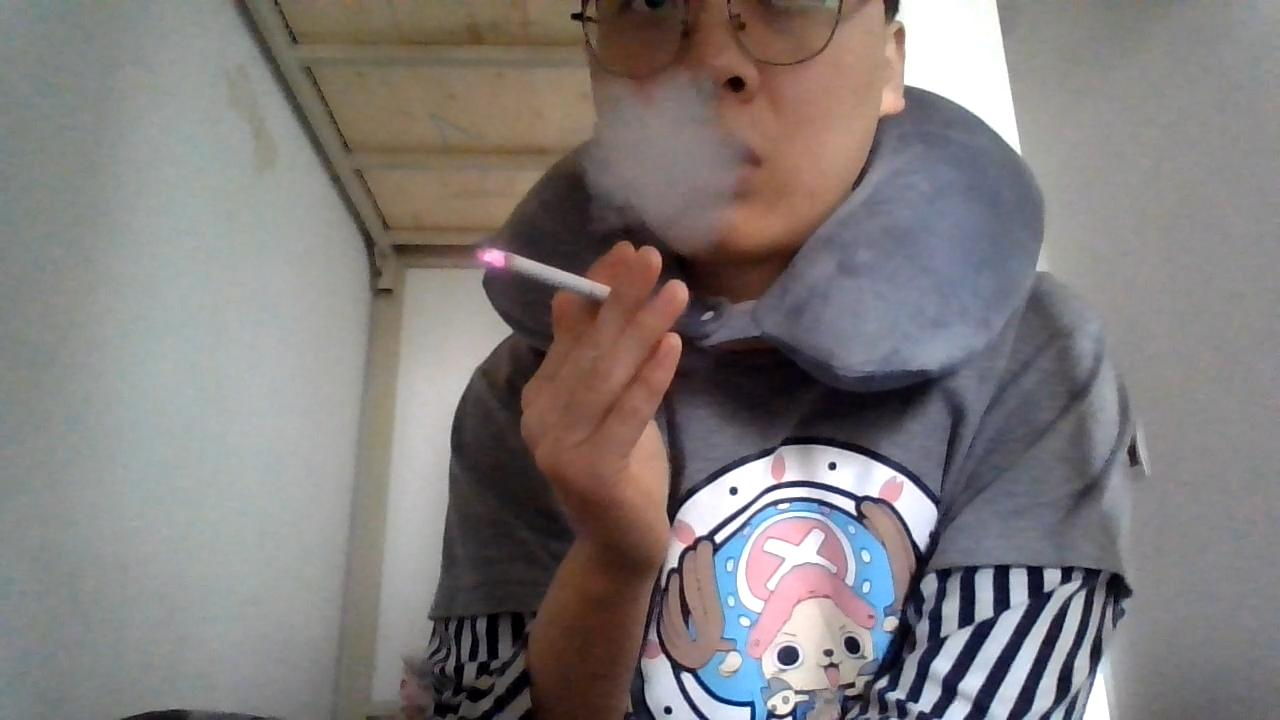yanwu: (563, 72, 744, 244)
